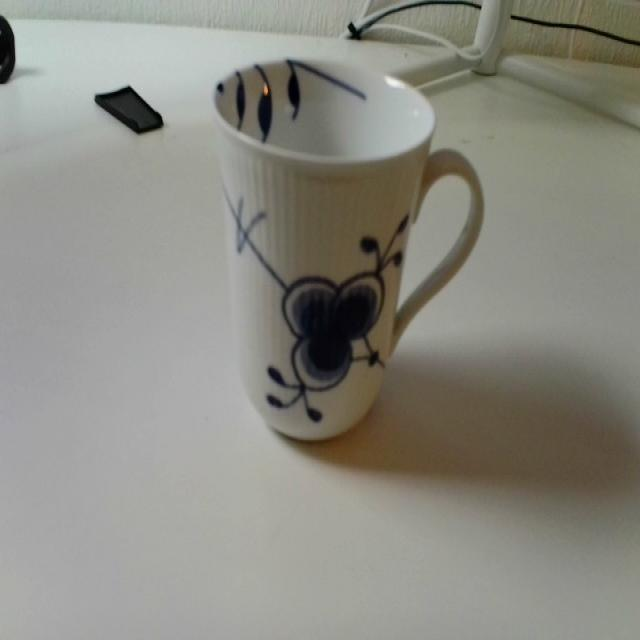cup: (211, 54, 490, 450)
